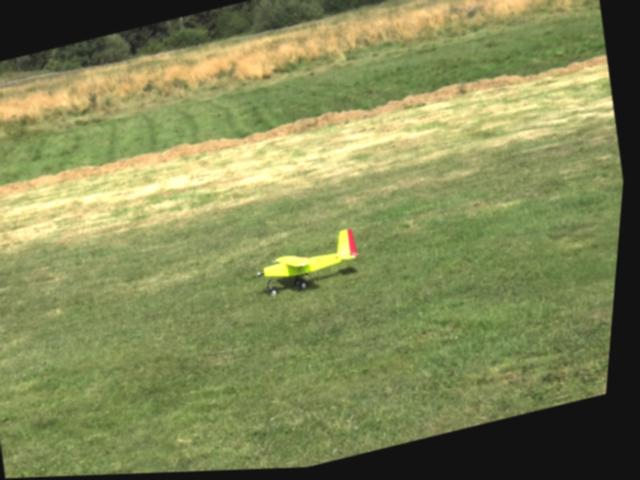plane: (254, 230, 371, 304)
